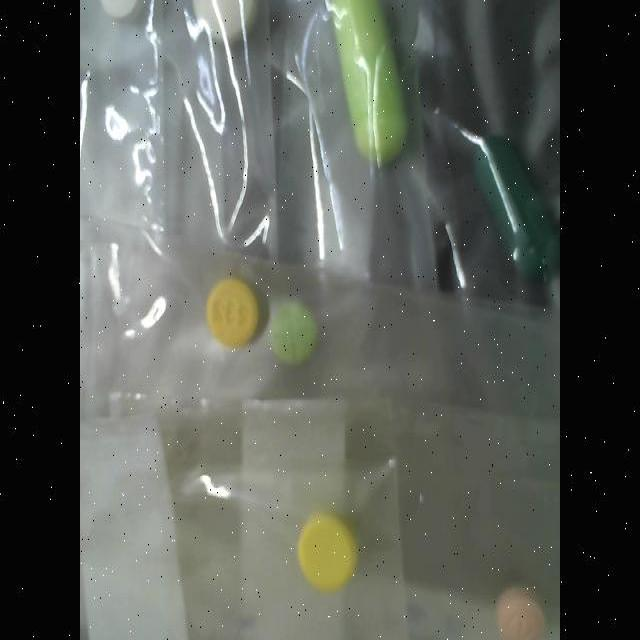pill: (324, 0, 416, 164), (473, 134, 557, 280), (294, 516, 360, 588), (207, 276, 260, 349), (268, 301, 316, 365), (498, 587, 549, 640)
